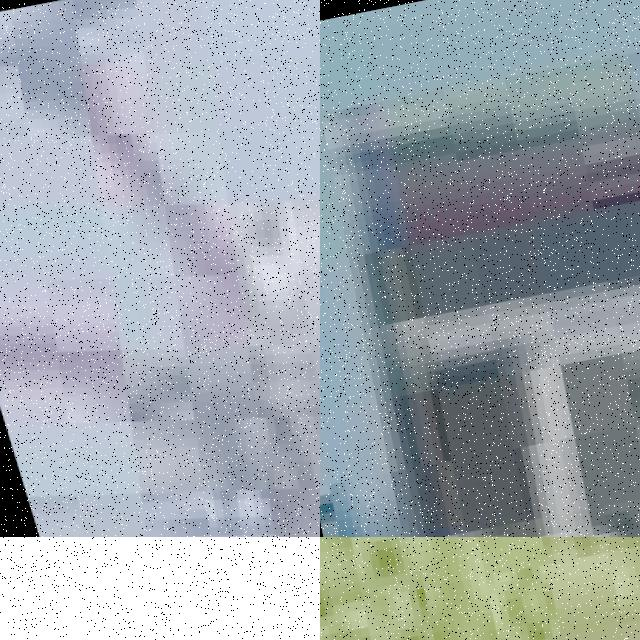drone: (0, 0, 320, 537)
